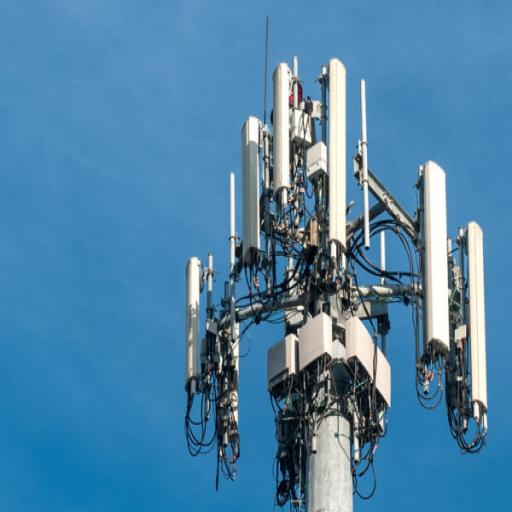monopole_tower: (184, 19, 488, 511)
